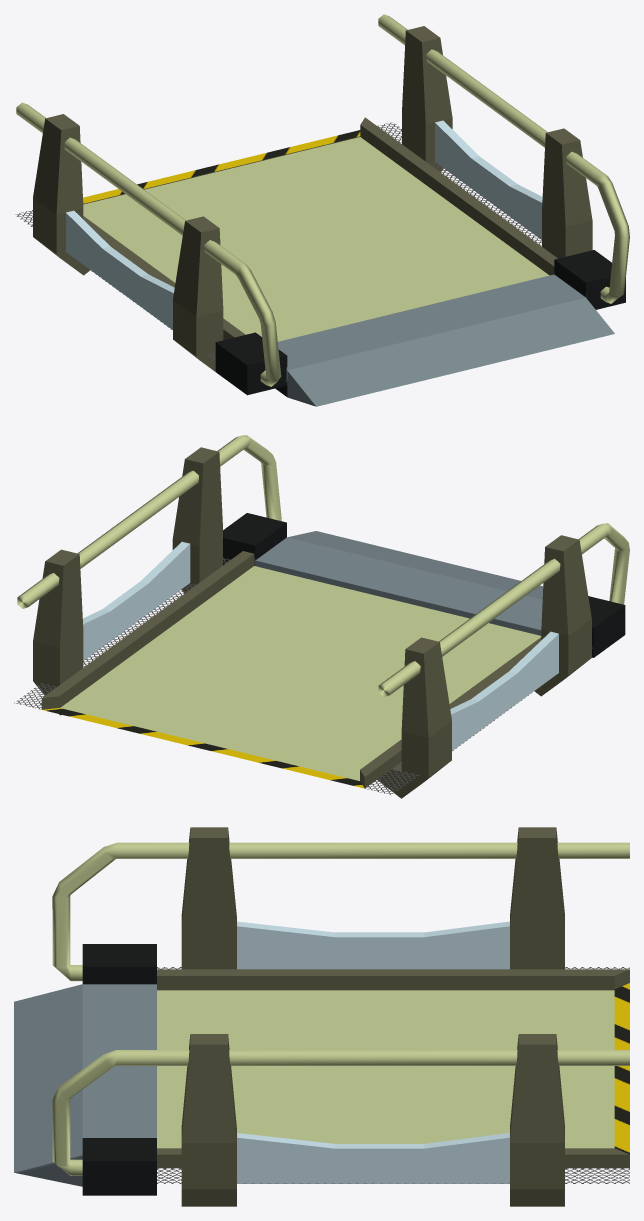
The model's file is Walkway Edge.fbx.
The picture shows the model from 3 angles, top to bottom: view 1: azimuth 30°, elevation 25°; view 2: azimuth 150°, elevation 25°; view 3: azimuth 270°, elevation 25°; orthographic projection. The views are drawn at different scales.
Visible parts, largest first — view 1: Floor.001, Edge, Pivot 2.001, Pivot 1.001, Pivot Union 1 2.002, Pivot Union 1 2.001, Pivot 4.001, Pivot 3.001, Pivot Wall 1 2.001, Pivot Wall 3 4.001; view 2: Floor.001, Edge, Pivot 1.001, Pivot 3.001, Pivot 2.001, Pivot 4.001, Pivot Union 1 2.002, Pivot Union 1 2.001, Pivot Wall 3 4.001, Pivot Wall 1 2.001; view 3: Floor.001, Edge, Pivot Wall 3 4.001, Pivot Wall 1 2.001, Pivot Union 1 2.001, Pivot Union 1 2.002, Pivot 4.001, Pivot 3.001, Pivot 2.001, Pivot 1.001.
Part boxes in pixels (x1,y1,x2,y2): Floor.001: (15, 117, 557, 361); Edge: (215, 250, 625, 406); Pivot 2.001: (173, 216, 223, 371); Pivot 1.001: (33, 114, 90, 275); Pivot Union 1 2.002: (378, 14, 629, 303); Pivot Union 1 2.001: (16, 102, 281, 386); Pivot 4.001: (542, 128, 592, 258); Pivot 3.001: (402, 26, 452, 171); Pivot Wall 1 2.001: (66, 210, 174, 329); Pivot Wall 3 4.001: (435, 120, 542, 239); Floor.001: (14, 551, 593, 794); Edge: (223, 513, 625, 657); Pivot 1.001: (377, 637, 451, 798); Pivot 3.001: (33, 549, 83, 715); Pivot 2.001: (534, 535, 591, 696); Pivot 4.001: (172, 447, 222, 593); Pivot Union 1 2.002: (17, 435, 281, 608); Pivot Union 1 2.001: (378, 523, 629, 697); Pivot Wall 3 4.001: (83, 541, 190, 660); Pivot Wall 1 2.001: (450, 631, 558, 750); Floor.001: (157, 967, 629, 1183); Edge: (14, 944, 156, 1195); Pivot Wall 3 4.001: (237, 1133, 509, 1183); Pivot Wall 1 2.001: (237, 921, 509, 969); Pivot Union 1 2.001: (52, 842, 629, 981); Pivot Union 1 2.002: (52, 1050, 629, 1175); Pivot 4.001: (181, 1034, 236, 1206); Pivot 3.001: (510, 1034, 564, 1206); Pivot 2.001: (181, 827, 236, 969); Pivot 1.001: (510, 827, 564, 969).
Size of the model in its own units: 4.18 by 1.48 by 4.8.
